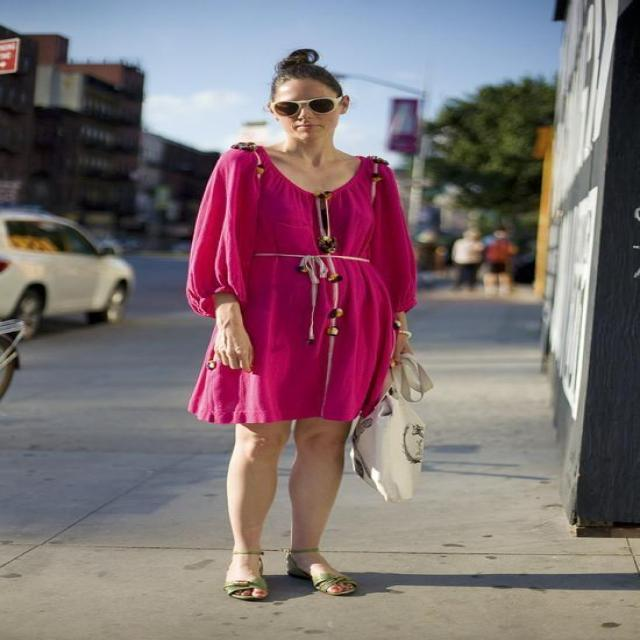dress: (184, 141, 418, 422)
